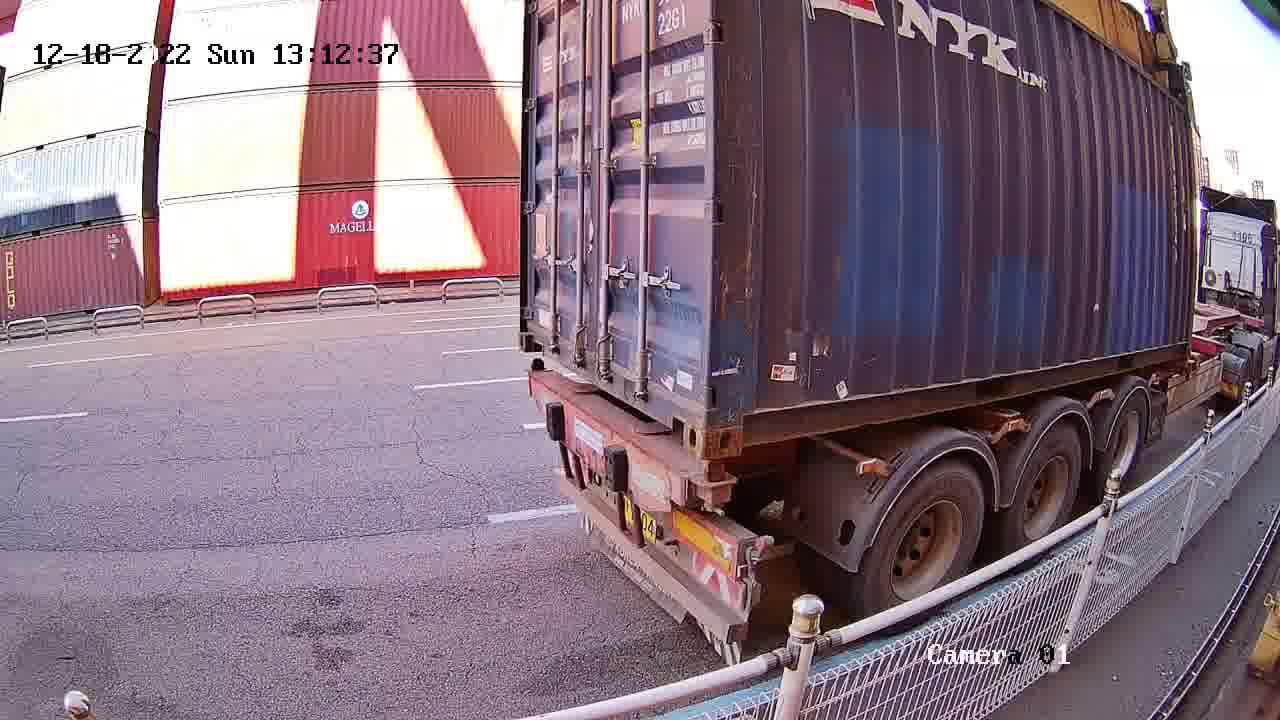Chassis: (532, 369, 737, 508)
Cone: (692, 460, 735, 515), (527, 354, 548, 400)
Hole_L: (704, 376, 778, 454), (518, 310, 553, 364)
Hole_R: (657, 359, 707, 451)
Tire: (867, 472, 988, 612), (1009, 431, 1081, 550), (1092, 393, 1150, 497)
